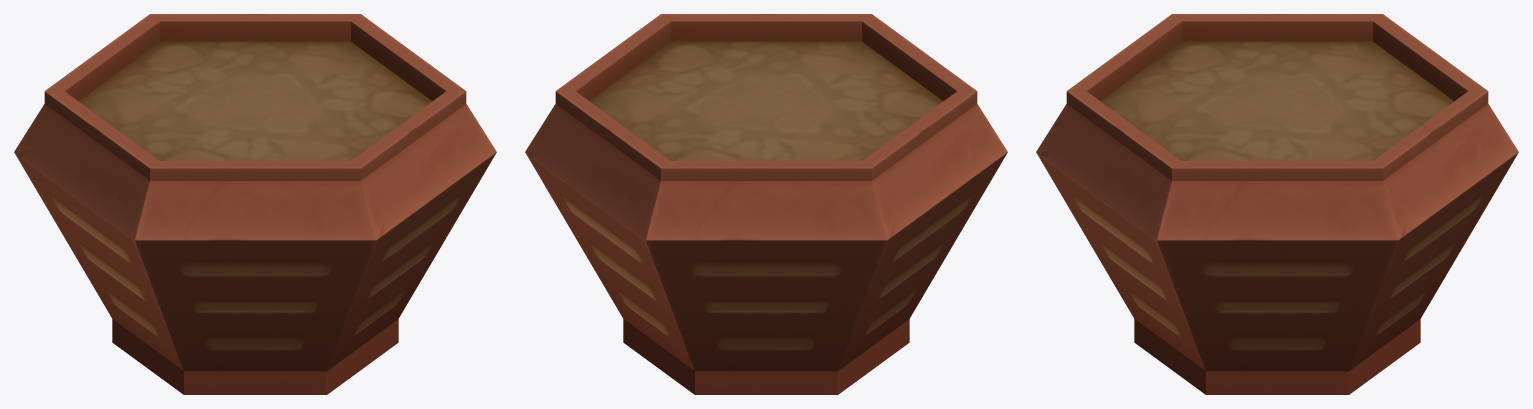
File: Clumb_2.FBX
3 renders of one model, left to right at view 1: azimuth 30°, elevation 25°; view 2: azimuth 150°, elevation 25°; view 3: azimuth 270°, elevation 25°, orthographic.
Parts seen in each view (by area): view 1: Clumb_2; view 2: Clumb_2; view 3: Clumb_2.
Boxes of the visible parts, box(x1,y1,x2,y2) form: Clumb_2: box(14, 14, 496, 394); Clumb_2: box(525, 14, 1007, 394); Clumb_2: box(1036, 14, 1518, 394).
Bounding box in the file's own units: 134 × 88.57 × 154.
